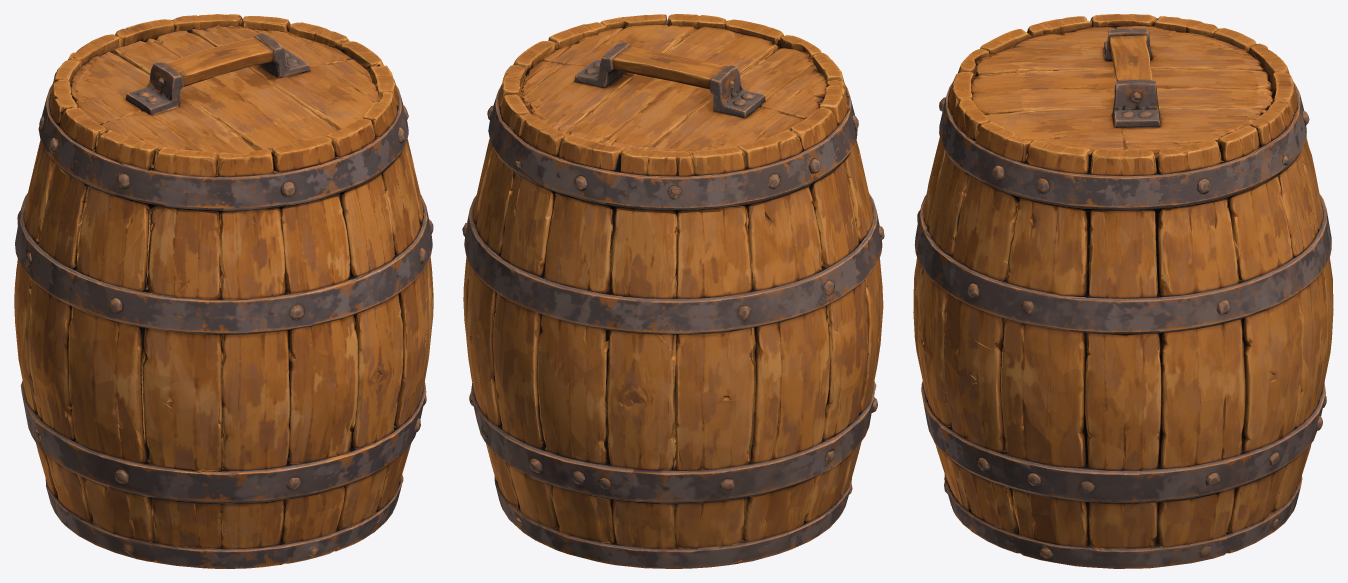
The model's file is barrel.glb.
3 views of the same model, side by side, from view 1: azimuth 30°, elevation 25°; view 2: azimuth 150°, elevation 25°; view 3: azimuth 270°, elevation 25° (orthographic).
Bounding box in the file's own units: 1.65 × 1.9 × 1.64.
1 material, 1 textured.
